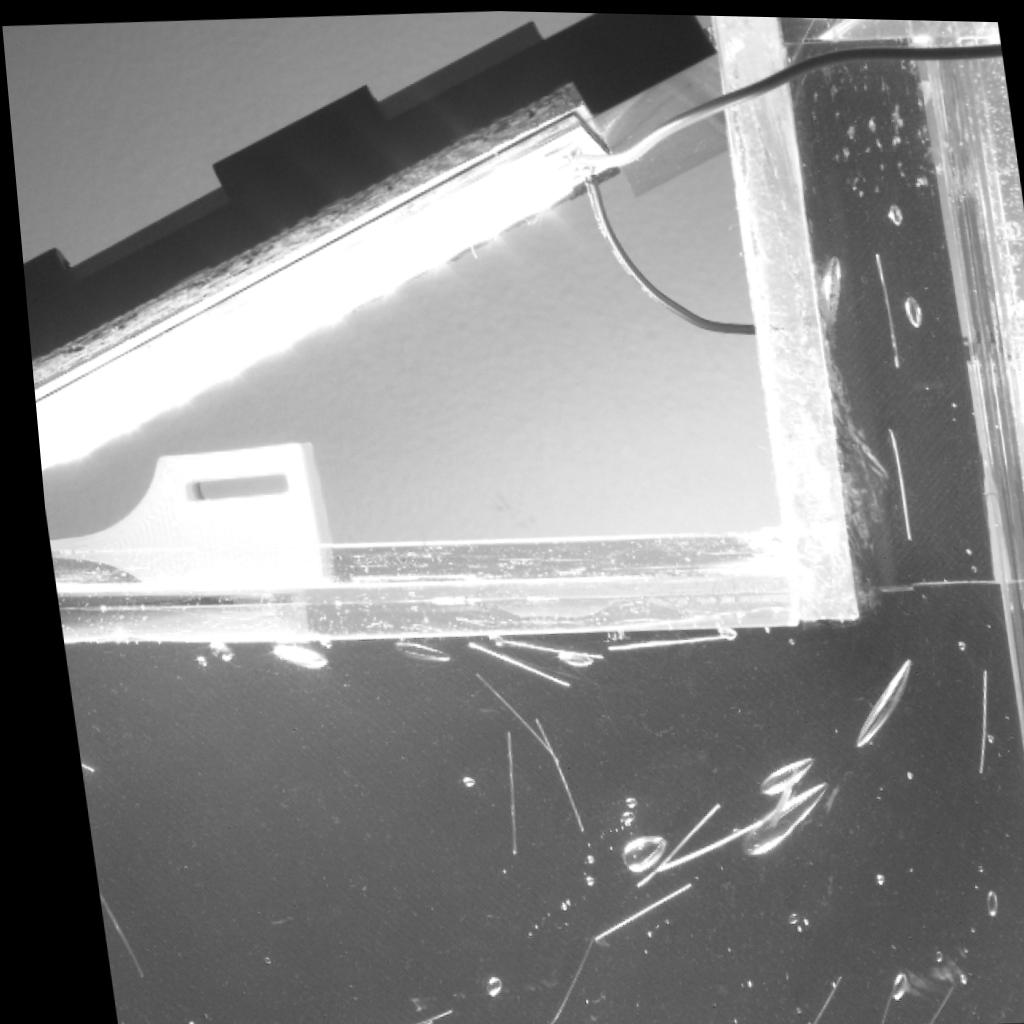Fiber: (616, 794, 710, 890), (456, 668, 546, 764), (640, 808, 751, 878), (574, 873, 679, 946), (516, 711, 571, 837), (453, 634, 564, 688), (523, 936, 580, 1024), (81, 887, 131, 986), (866, 247, 899, 367), (878, 418, 906, 542), (480, 633, 593, 663), (486, 725, 507, 856), (785, 964, 827, 1024), (590, 631, 721, 650), (960, 659, 980, 774), (855, 966, 887, 1024), (906, 973, 943, 1022), (377, 1003, 440, 1024), (399, 1019, 415, 1024)
